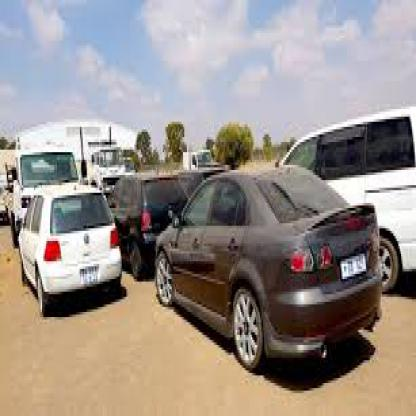car: (156, 162, 386, 373), (15, 183, 123, 314), (106, 172, 187, 282)
